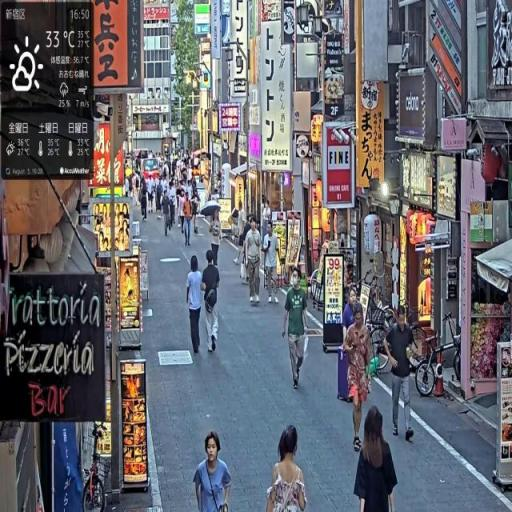person: (353, 406, 399, 512), (384, 305, 418, 444), (344, 304, 375, 455), (283, 266, 311, 395), (267, 428, 309, 512), (194, 430, 233, 512), (201, 250, 222, 355), (187, 259, 206, 359), (245, 216, 263, 308), (263, 221, 281, 305)
